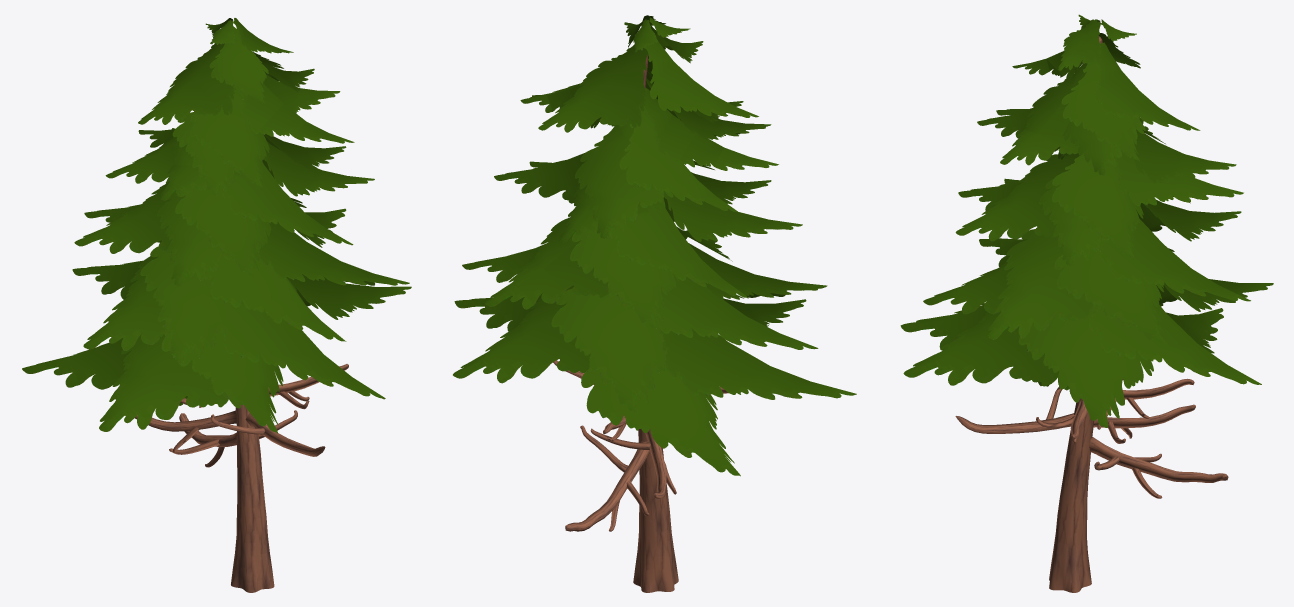
Rendered from tree-pine.glb.
3 renders of one model, left to right at view 1: azimuth 30°, elevation 25°; view 2: azimuth 150°, elevation 25°; view 3: azimuth 270°, elevation 25°, orthographic. The views are drawn at different scales.
Parts seen in each view (by area): view 1: Pine_1; view 2: Pine_1; view 3: Pine_1.
Part boxes in pixels (x1,y1,x2,y2): Pine_1: [22, 18, 411, 592]; Pine_1: [453, 15, 856, 592]; Pine_1: [900, 14, 1273, 592].
Size of the model in its own units: 4.94 by 7.32 by 4.54.
Materials: 2 (2 with a texture image).
